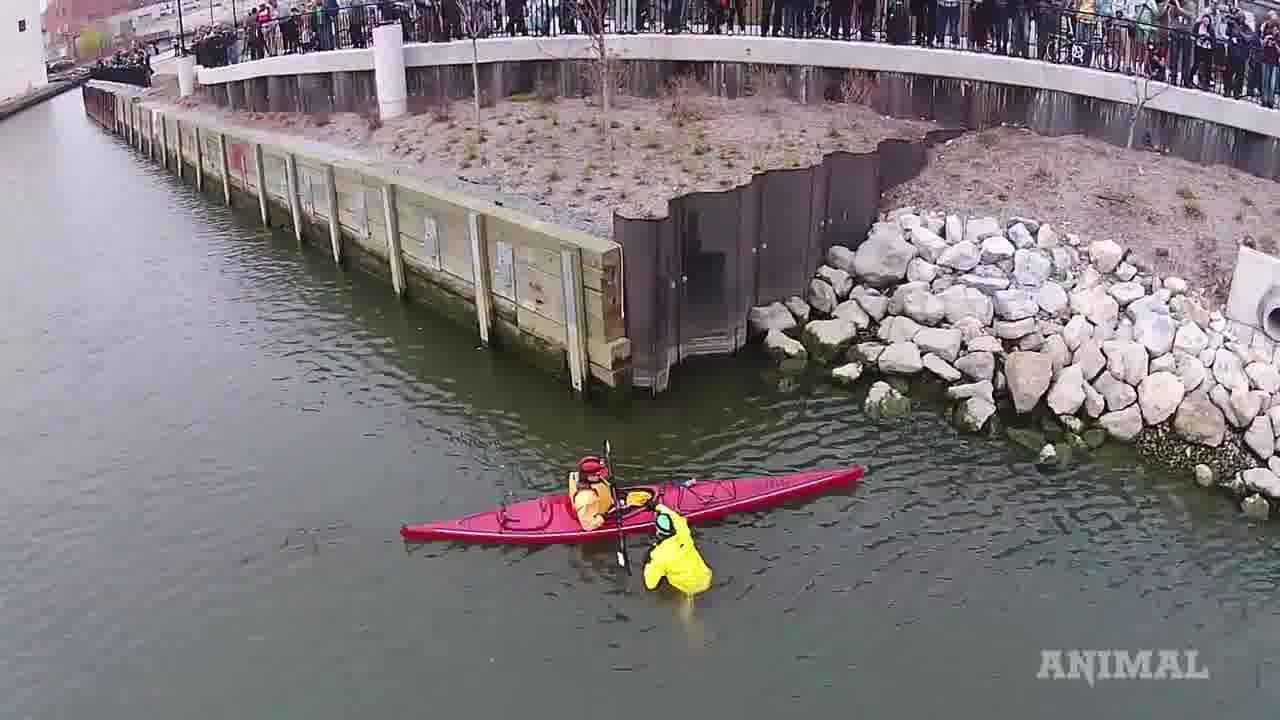human: (640, 519, 712, 599)
